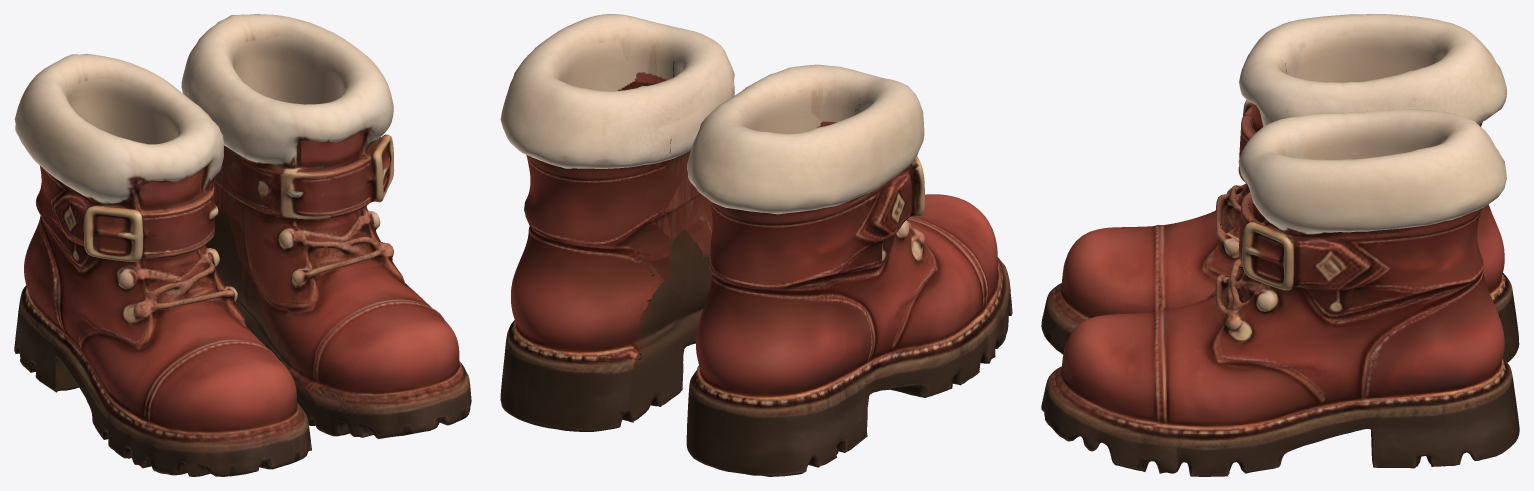
The model's file is trail-boots.glb.
3 renders of one model, left to right at view 1: azimuth 30°, elevation 25°; view 2: azimuth 150°, elevation 25°; view 3: azimuth 270°, elevation 25°, orthographic. The views are drawn at different scales.
Visible parts, largest first — view 1: model; view 2: model; view 3: model.
Boxes of the visible parts, x1=… form: model: x1=14, y1=14, x2=471, y2=476; model: x1=500, y1=14, x2=1012, y2=476; model: x1=1041, y1=14, x2=1519, y2=476.
Bounding box in the file's own units: 1.58 × 1.36 × 1.9.
1 material, 1 textured.
